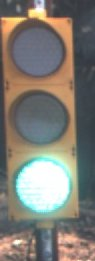Green: (2, 11, 84, 234)
